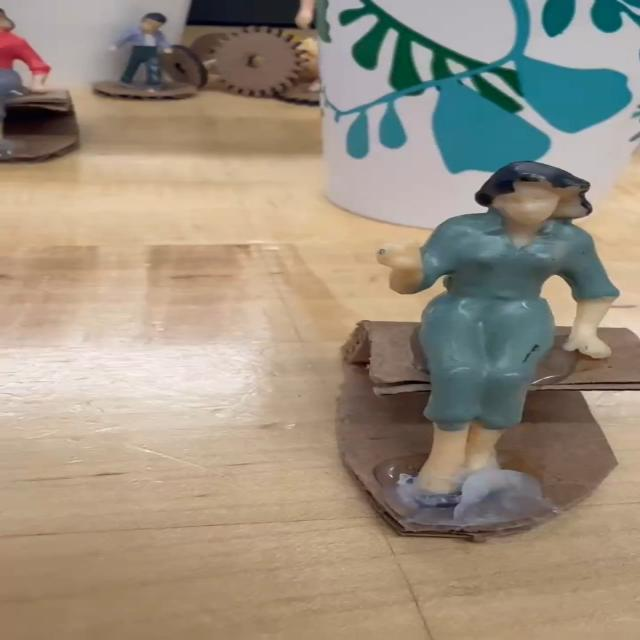Authorized: (284, 167, 640, 543)
